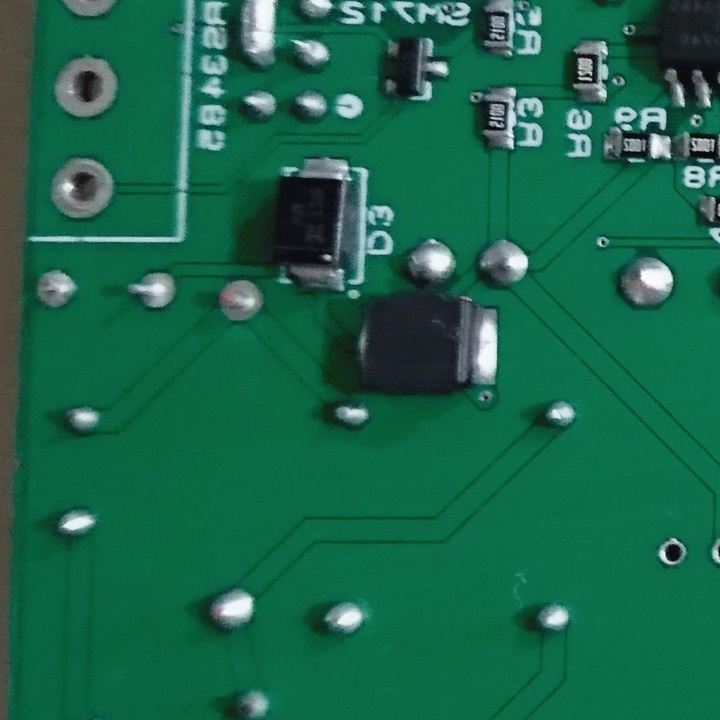F: (50, 53, 125, 120), (47, 157, 120, 223), (124, 265, 180, 314), (216, 274, 263, 325), (33, 266, 80, 315), (653, 535, 690, 569)
P: (233, 1, 281, 74)
